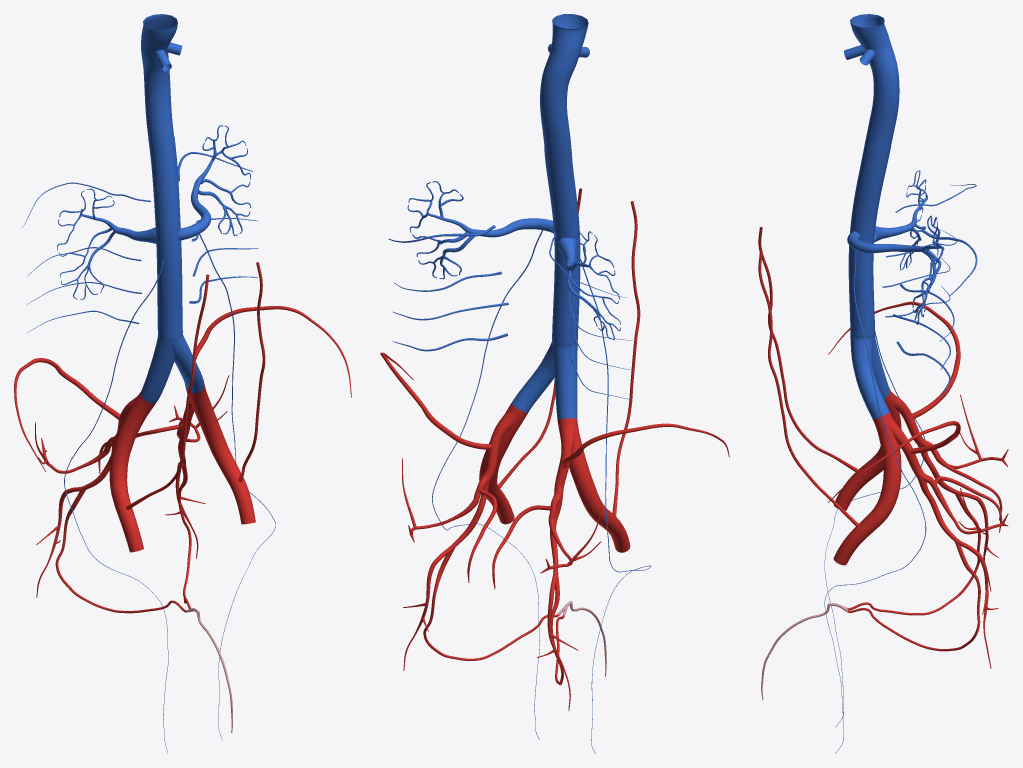
File: circulatorio-inferior-vena-cava-thoracic-part.glb
The picture shows the model from 3 angles, left to right: view 1: azimuth 30°, elevation 25°; view 2: azimuth 150°, elevation 25°; view 3: azimuth 270°, elevation 25°; orthographic projection. The views are drawn at different scales.
Parts seen in each view (by area): view 1: Inferior vena cava (abdominal part), Inferior vena cava (thoracic part), External iliac vein.r, External iliac vein.l, Common iliac vein.r, Intrarenal veins of left kidney, Intrarenal veins of right kidney, Common iliac vein.l, Inferior epigastric vein.r, Iliolumbar vein.r, Iliolumbar vein.l, Lumbar veins.r (+7 smaller); view 2: Inferior vena cava (abdominal part), Inferior vena cava (thoracic part), External iliac vein.r, Common iliac vein.r, Intrarenal veins of left kidney, External iliac vein.l, Common iliac vein.l, Lumbar veins.l, Inferior epigastric vein.r, Intrarenal veins of right kidney, Inferior gluteal veins.l, Inferior gluteal veins.r (+11 smaller); view 3: Inferior vena cava (abdominal part), Inferior vena cava (thoracic part), External iliac vein.l, Common iliac vein.l, External iliac vein.r, Intrarenal veins of left kidney, Inferior epigastric vein.l, Inferior gluteal veins.l, Iliolumbar vein.r, Inferior epigastric vein.r, Lumbar veins.l, Internal pudendal vein.l (+13 smaller).
Part boxes in pixels (x1=…): Inferior vena cava (abdominal part): x1=148, y1=137, x2=182, y2=337; Inferior vena cava (thoracic part): x1=141, y1=14, x2=177, y2=142; External iliac vein.r: x1=109, y1=392, x2=155, y2=552; External iliac vein.l: x1=185, y1=385, x2=255, y2=524; Common iliac vein.r: x1=140, y1=334, x2=182, y2=403; Intrarenal veins of left kidney: x1=191, y1=125, x2=251, y2=235; Intrarenal veins of right kidney: x1=57, y1=188, x2=126, y2=299; Common iliac vein.l: x1=159, y1=333, x2=204, y2=393; Inferior epigastric vein.r: x1=125, y1=274, x2=209, y2=509; Iliolumbar vein.r: x1=14, y1=358, x2=120, y2=471; Iliolumbar vein.l: x1=192, y1=306, x2=351, y2=397; Lumbar veins.r: x1=22, y1=182, x2=150, y2=333; Inferior vena cava (abdominal part): x1=544, y1=149, x2=580, y2=345; Inferior vena cava (thoracic part): x1=540, y1=14, x2=588, y2=157; External iliac vein.r: x1=558, y1=418, x2=630, y2=552; Common iliac vein.r: x1=552, y1=340, x2=577, y2=419; Intrarenal veins of left kidney: x1=407, y1=181, x2=502, y2=279; External iliac vein.l: x1=479, y1=404, x2=527, y2=524; Common iliac vein.l: x1=511, y1=340, x2=577, y2=413; Lumbar veins.l: x1=388, y1=225, x2=508, y2=351; Inferior epigastric vein.r: x1=612, y1=201, x2=640, y2=516; Intrarenal veins of right kidney: x1=565, y1=231, x2=620, y2=340; Inferior gluteal veins.l: x1=403, y1=472, x2=492, y2=670; Inferior gluteal veins.r: x1=537, y1=489, x2=578, y2=710; Inferior vena cava (abdominal part): x1=848, y1=142, x2=890, y2=336; Inferior vena cava (thoracic part): x1=850, y1=14, x2=899, y2=149; External iliac vein.l: x1=833, y1=412, x2=901, y2=565; Common iliac vein.l: x1=850, y1=332, x2=889, y2=419; External iliac vein.r: x1=833, y1=390, x2=901, y2=510; Intrarenal veins of left kidney: x1=899, y1=215, x2=944, y2=324; Inferior epigastric vein.l: x1=758, y1=251, x2=858, y2=526; Inferior gluteal veins.l: x1=915, y1=470, x2=998, y2=668; Iliolumbar vein.r: x1=828, y1=301, x2=960, y2=418; Inferior epigastric vein.r: x1=758, y1=227, x2=858, y2=472; Lumbar veins.l: x1=893, y1=229, x2=977, y2=397; Internal pudendal vein.l: x1=847, y1=540, x2=980, y2=651.
Bounding box in the file's own units: 0.2498 × 0.5352 × 0.1705.
